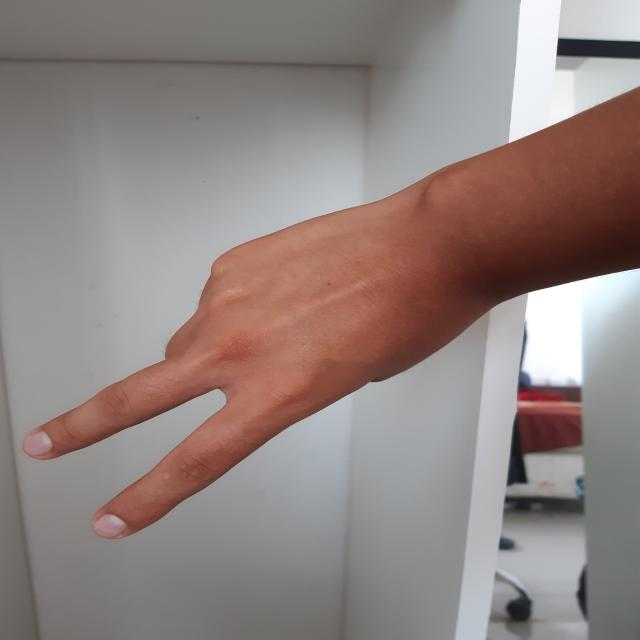EYE: (26, 172, 459, 544)
